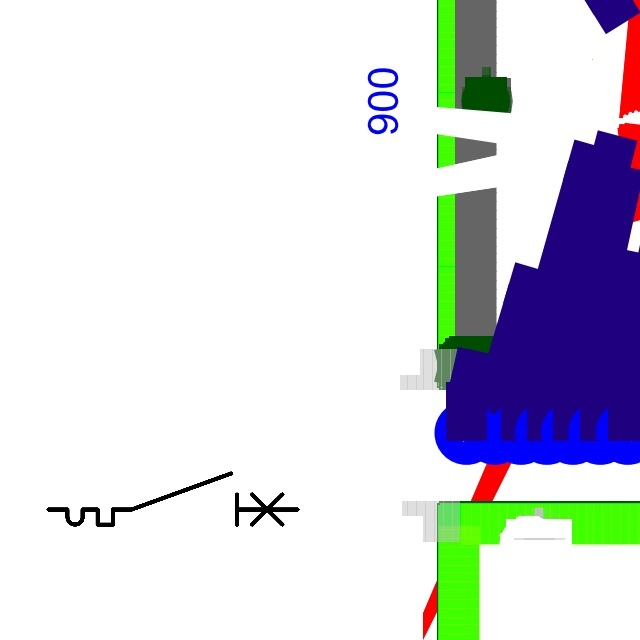interruptor_termomagnetico: (42, 467, 304, 531)
